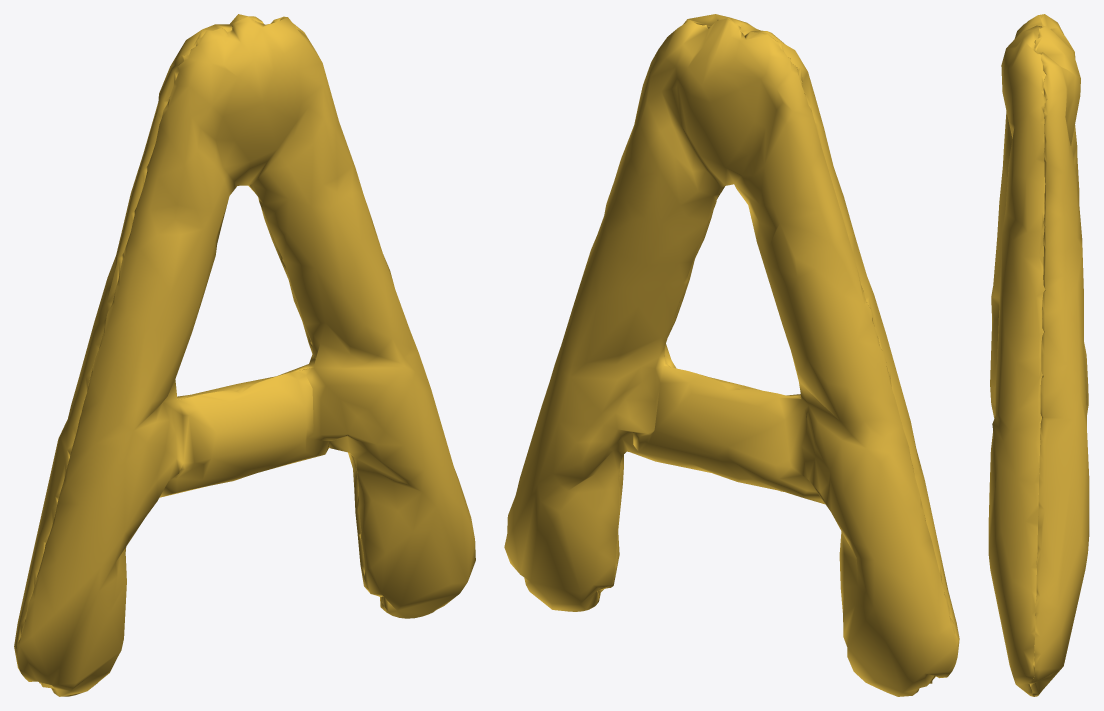
File: ballon A.fbx
The picture shows the model from 3 angles, left to right: view 1: azimuth 30°, elevation 25°; view 2: azimuth 150°, elevation 25°; view 3: azimuth 270°, elevation 25°; orthographic projection. The views are drawn at different scales.
Parts seen in each view (by area): view 1: Text; view 2: Text; view 3: Text.
Part boxes in pixels (x1=…): Text: x1=14, y1=14, x2=475, y2=696; Text: x1=504, y1=14, x2=959, y2=696; Text: x1=988, y1=14, x2=1089, y2=696.
Size of the model in its own units: 47.54 by 63.74 by 9.91.
